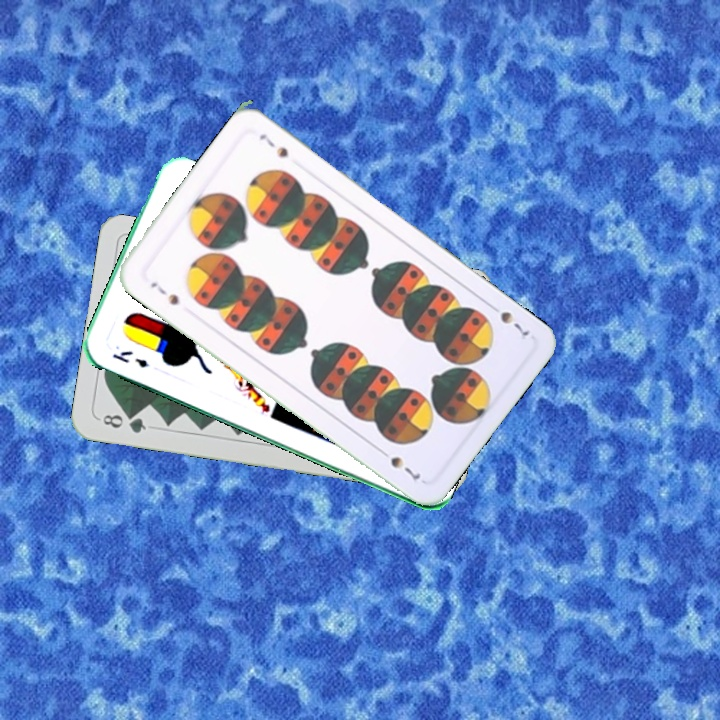EK: (108, 346, 151, 371)
G8: (98, 410, 149, 436)
S7: (484, 299, 532, 339), (146, 278, 182, 308)
